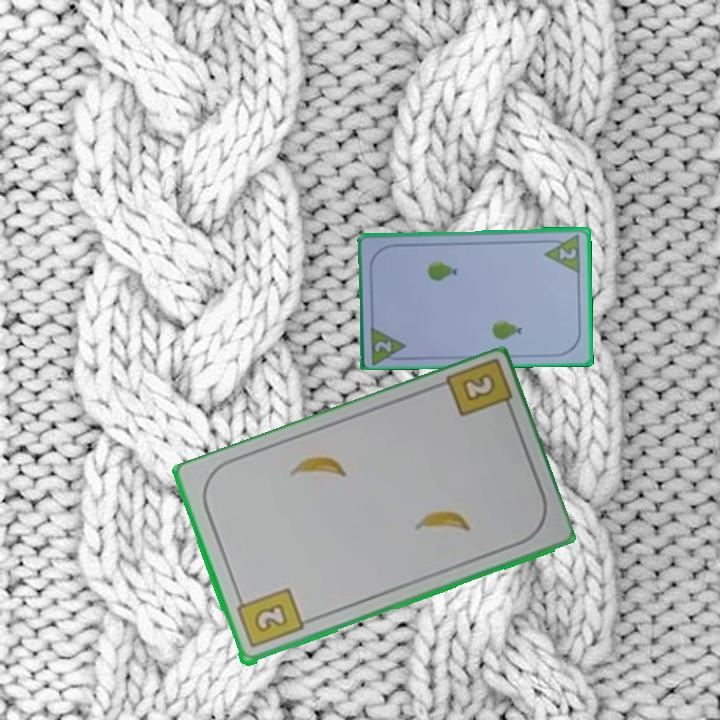2b: (233, 585, 306, 651), (458, 370, 498, 405)
2p: (542, 231, 583, 275), (371, 337, 394, 355)
